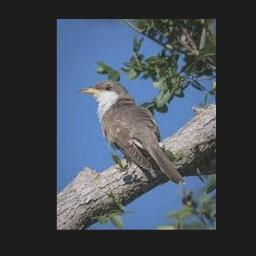Cuckoo: (80, 81, 186, 184)
